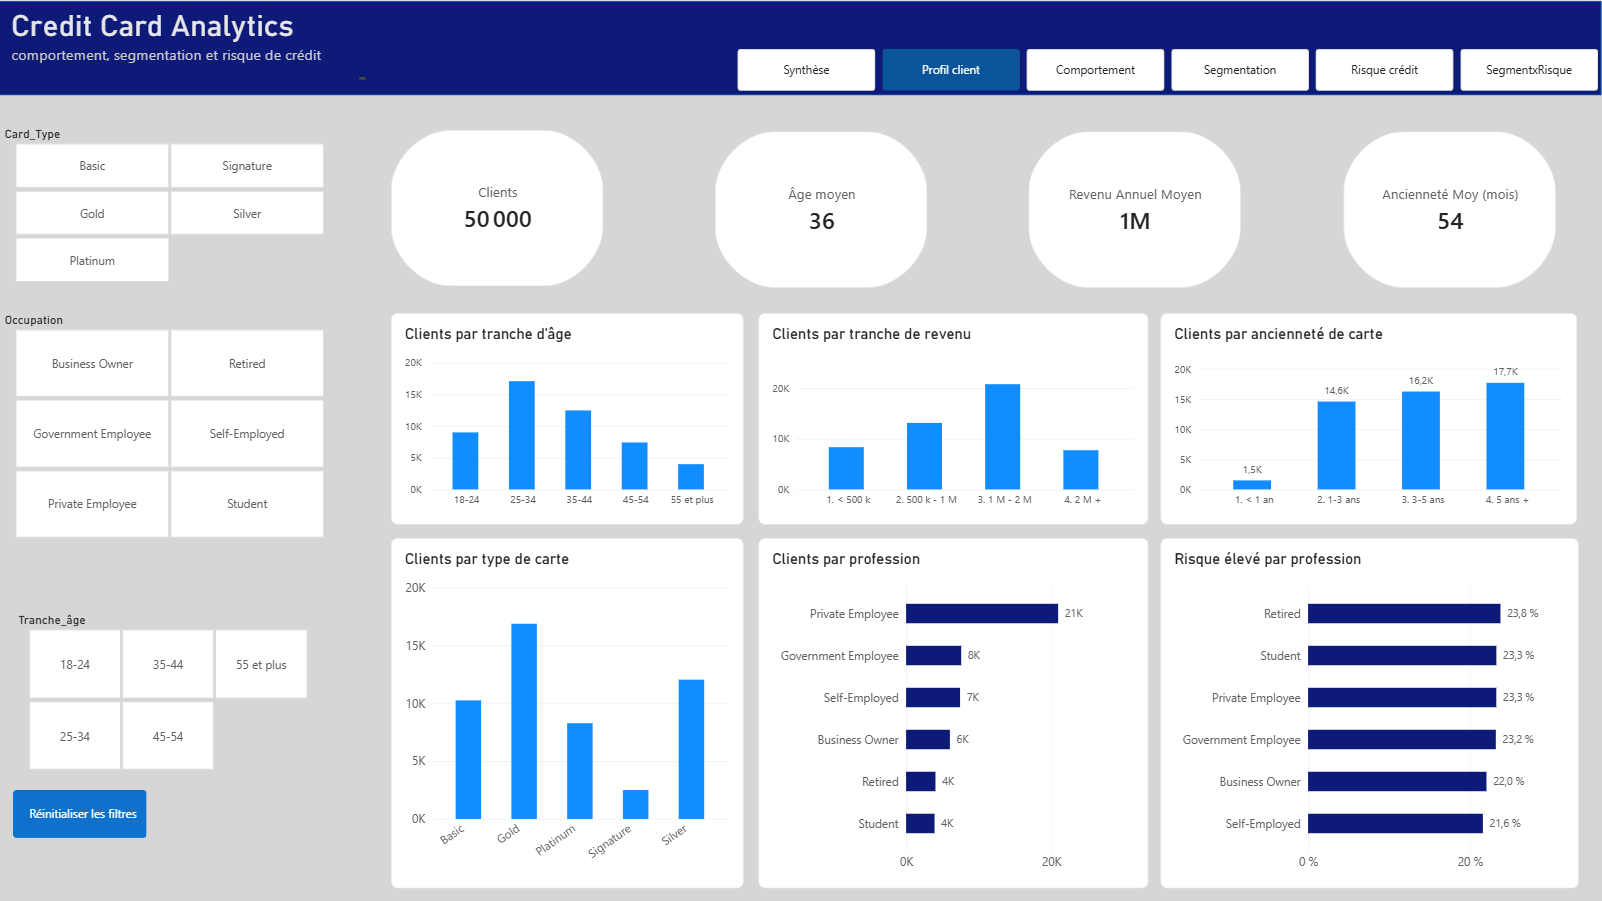

The dashboard page shown, as its layout file describes it:
{"tool":"powerbi","page":{"name":"Profil client","canvas":[1920,1080],"ordinal":1},"visuals":[{"type":"shape","title":"Credit Card Analytics ","box":[0,0,1919.3,112.9],"z":0},{"type":"textbox","title":"Credit Card Analytics ","box":[17,8.5,423.9,85.2],"z":1000},{"type":"slicer","fields":{"Values":["Data.Card_Type"]},"box":[0,151.2,409,187.5],"z":2000},{"type":"slicer","fields":{"Values":["Data.Occupation"]},"box":[0,372.8,409,270.5],"z":3000},{"type":"slicer","fields":{"Values":["Data.Tranche_âge"]},"box":[17,732.8,372.8,189.6],"z":4000},{"type":"cardVisual","title":"Dépense moyenne mensuelle","fields":{"Data":["Mesures.Âge moyen"]},"box":[858.5,155.5,255,187.8],"z":5000},{"type":"cardVisual","title":"Dépense moyenne mensuelle","fields":{"Data":["Mesures.Revenu Annuel Moyen"]},"box":[1233.4,155.5,255,187.8],"z":6000},{"type":"cardVisual","title":"Dépense moyenne mensuelle","fields":{"Data":["Mesures.Ancienneté Moy (mois)"]},"box":[1610.4,155.5,255,187.8],"z":7000},{"type":"cardVisual","title":"Dépense moyenne mensuelle","fields":{"Data":["Mesures.Clients"]},"box":[470.5,155.3,255,187.8],"z":8000},{"type":"columnChart","title":"Clients par tranche d''âge","fields":{"Category":["Data.Tranche_âge"],"Y":["Mesures.Nombre de clients"]},"box":[470.8,372.8,421.8,253.5],"z":9000},{"type":"columnChart","title":"Clients par tranche de revenu","fields":{"Category":["Data.Tranche_Revenu_OK"],"Y":["Mesures.Nombre de clients"]},"box":[909.6,372.8,466.5,253.5],"z":10000},{"type":"columnChart","title":"Clients par ancienneté de carte ","fields":{"Category":["Data.Tranche_anciennete"],"Y":["Mesures.Nombre de clients"]},"box":[1391,372.8,498.5,253.5],"z":11000},{"type":"clusteredBarChart","title":"Clients par profession ","fields":{"Category":["Data.Occupation"],"Y":["Mesures.Nombre de clients"]},"box":[909.6,643.3,466.5,419.6],"z":12000},{"type":"columnChart","title":"Clients par type de carte ","fields":{"Category":["Data.Card_Type"],"Y":["Mesures.Nombre de clients"]},"box":[470.8,643.3,421.8,419.6],"z":13000},{"type":"clusteredBarChart","title":"Risque élevé par profession","fields":{"Category":["Data.Occupation"],"Y":["Mesures.% Risque par Segment"]},"box":[1391,643.3,500.6,419.6],"z":14000},{"type":"pageNavigator","box":[885,57.5,1035,50],"z":14001},{"type":"actionButton","box":[17.5,945,160,57.5],"z":14002}]}

Visuals, with their boxes in screenshot pixels (x1, y1, x2, y2), scaled from the page's 1920x1080 canvas onto the 1602x901 screenshot:
"Credit Card Analytics " shape: {"left": 0, "top": 0, "right": 1601, "bottom": 94}
"Credit Card Analytics " textbox: {"left": 14, "top": 7, "right": 368, "bottom": 78}
slicer - Data.Card_Type: {"left": 0, "top": 126, "right": 341, "bottom": 283}
slicer - Data.Occupation: {"left": 0, "top": 311, "right": 341, "bottom": 537}
slicer - Data.Tranche_âge: {"left": 14, "top": 611, "right": 325, "bottom": 770}
"Dépense moyenne mensuelle" cardVisual: {"left": 716, "top": 130, "right": 929, "bottom": 286}
"Dépense moyenne mensuelle" cardVisual: {"left": 1029, "top": 130, "right": 1242, "bottom": 286}
"Dépense moyenne mensuelle" cardVisual: {"left": 1344, "top": 130, "right": 1556, "bottom": 286}
"Dépense moyenne mensuelle" cardVisual: {"left": 393, "top": 130, "right": 605, "bottom": 286}
"Clients par tranche d''âge" columnChart: {"left": 393, "top": 311, "right": 745, "bottom": 522}
"Clients par tranche de revenu" columnChart: {"left": 759, "top": 311, "right": 1148, "bottom": 522}
"Clients par ancienneté de carte " columnChart: {"left": 1161, "top": 311, "right": 1577, "bottom": 522}
"Clients par profession " clusteredBarChart: {"left": 759, "top": 537, "right": 1148, "bottom": 887}
"Clients par type de carte " columnChart: {"left": 393, "top": 537, "right": 745, "bottom": 887}
"Risque élevé par profession" clusteredBarChart: {"left": 1161, "top": 537, "right": 1578, "bottom": 887}
pageNavigator: {"left": 738, "top": 48, "right": 1601, "bottom": 90}
actionButton: {"left": 15, "top": 788, "right": 148, "bottom": 836}
